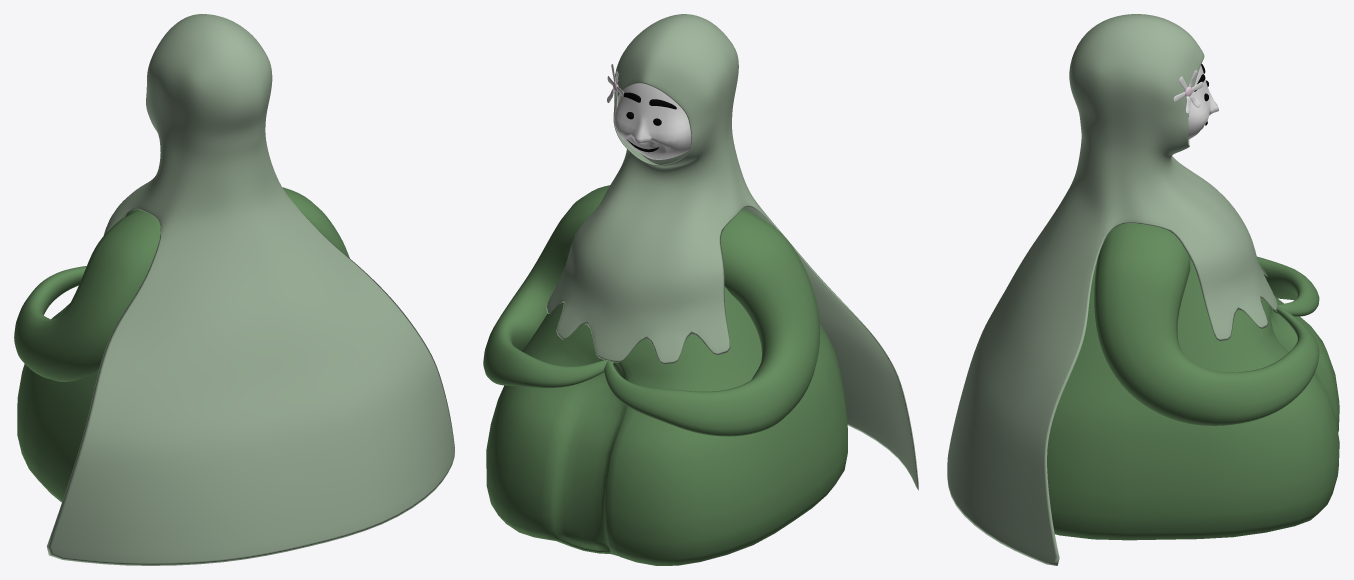
File: Mothernature Figurine.fbx
The picture shows the model from 3 angles, left to right: view 1: azimuth 30°, elevation 25°; view 2: azimuth 150°, elevation 25°; view 3: azimuth 270°, elevation 25°; orthographic projection.
Visible parts, largest first — view 1: hijab, arms, body; view 2: body, hijab, arms, head; view 3: hijab, body, arms, head.
Boxes of the visible parts, bbox=[...] form: hijab: bbox=[47, 14, 454, 565]; arms: bbox=[14, 187, 349, 381]; body: bbox=[17, 209, 140, 502]; body: bbox=[486, 208, 847, 565]; hijab: bbox=[546, 14, 918, 490]; arms: bbox=[483, 185, 820, 436]; head: bbox=[614, 83, 691, 159]; hijab: bbox=[947, 14, 1277, 565]; body: bbox=[1047, 258, 1339, 540]; arms: bbox=[1094, 223, 1319, 425]; head: bbox=[1188, 65, 1218, 139].
Size of the model in its own units: 127 by 142 by 107.
